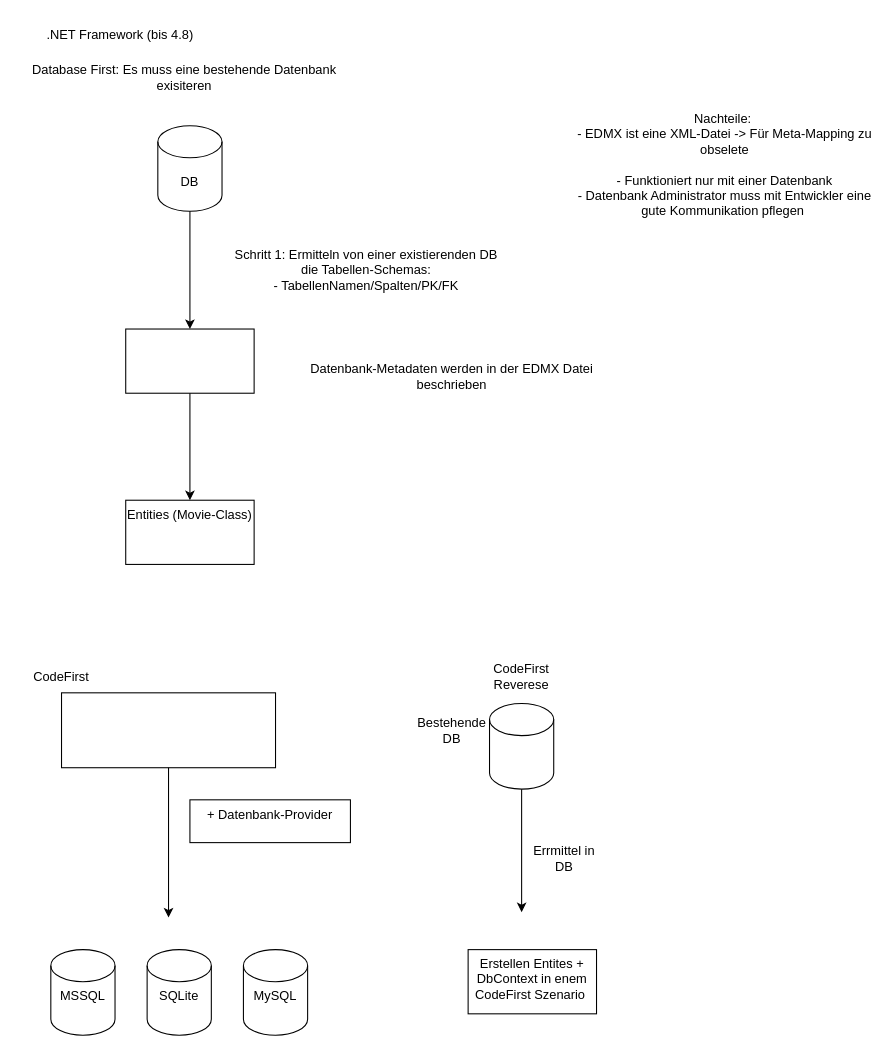
Image size: 892x1054. Some labels were removed from this diagram. Here are the shapes that lost their labels. From the top down, the centre of each, then its label:
At point 189,360: "EDMX-Datei".
At point 168,730: "Erstellen: Entites + DbContext - Zugriffklasse".
At point 521,745: "MovieDB".
